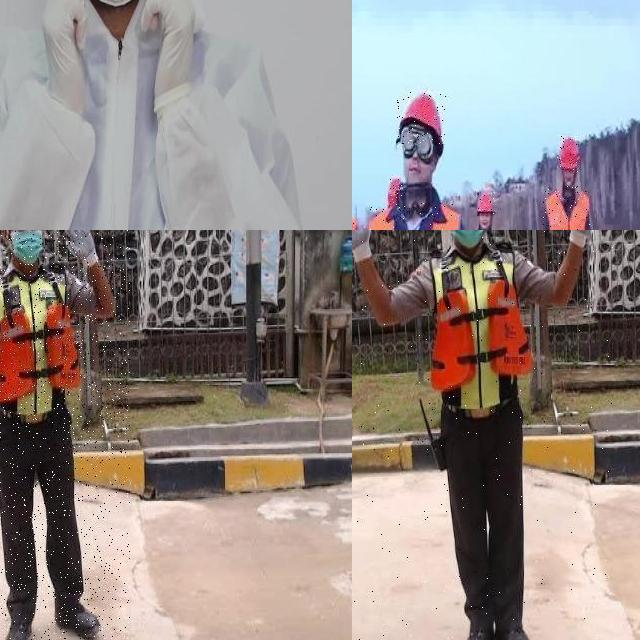BOOTS: (50, 600, 108, 640), (493, 614, 535, 640), (0, 613, 39, 640), (462, 618, 495, 640)
GLOVE: (62, 230, 99, 266), (352, 230, 376, 261), (565, 230, 604, 246)
Glove: (40, 0, 86, 119), (139, 0, 195, 96)
HELMET: (396, 92, 446, 144), (558, 135, 580, 172), (477, 189, 495, 216), (388, 176, 402, 202)
VEST: (429, 250, 534, 420), (0, 264, 85, 414), (543, 186, 591, 230)
